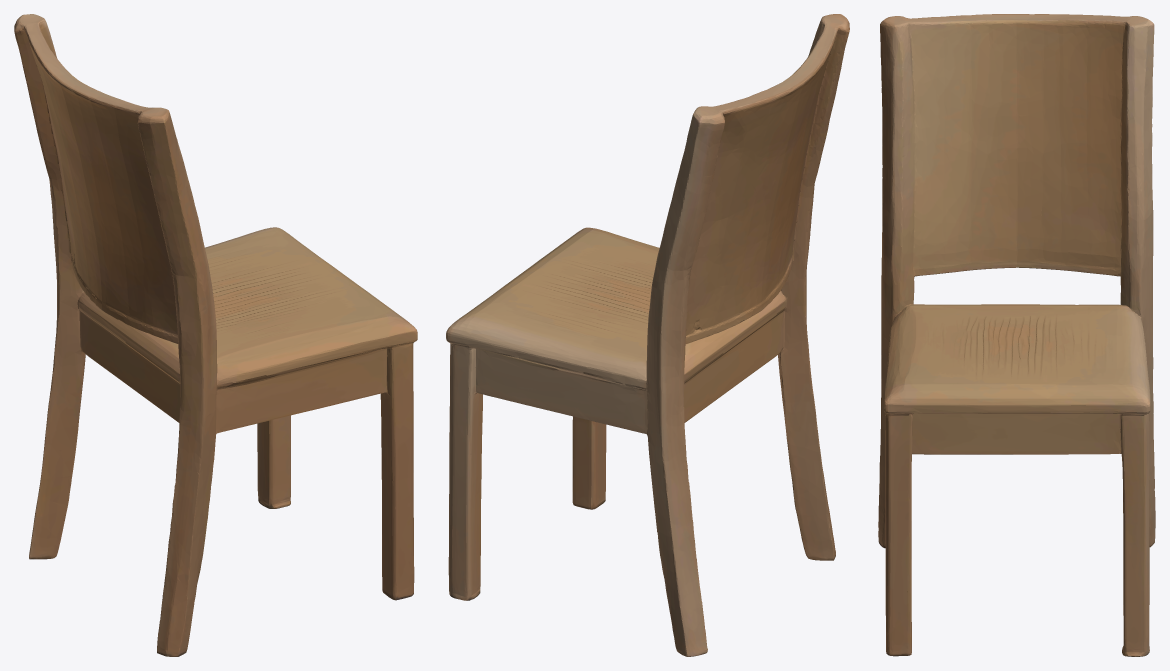
The picture shows the model from 3 angles, left to right: view 1: azimuth 30°, elevation 25°; view 2: azimuth 150°, elevation 25°; view 3: azimuth 270°, elevation 25°; orthographic projection. The views are drawn at different scales.
Visible parts, largest first — view 1: dining_chair_8.obj; view 2: dining_chair_8.obj; view 3: dining_chair_8.obj.
Boxes of the visible parts, x1,y1,x2,y2 form: dining_chair_8.obj: (14, 14, 417, 656); dining_chair_8.obj: (446, 14, 849, 656); dining_chair_8.obj: (878, 14, 1155, 656).
Bounding box in the file's own units: 0.5026 × 0.9 × 0.4366.
1 material, 1 textured.
